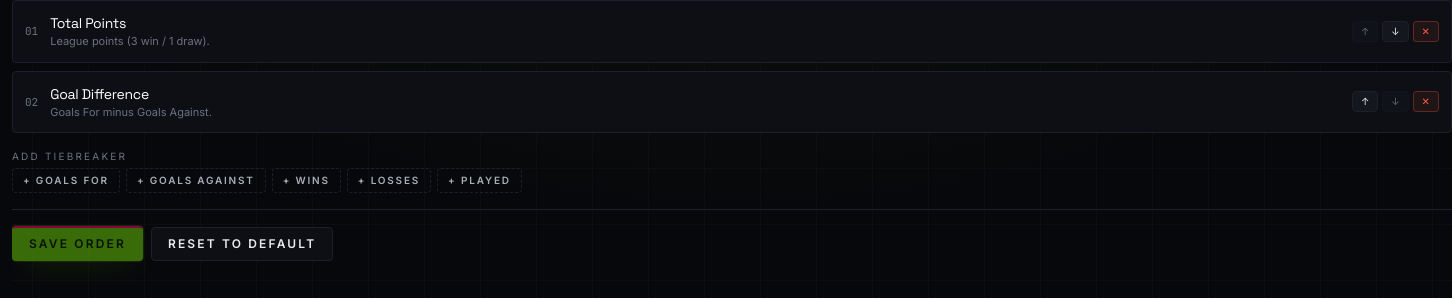
TiebreakerDragRank › surfaces save errors inline
Click the button named "Move Total Points down" at (1395,31), box [1382,21,1409,42]
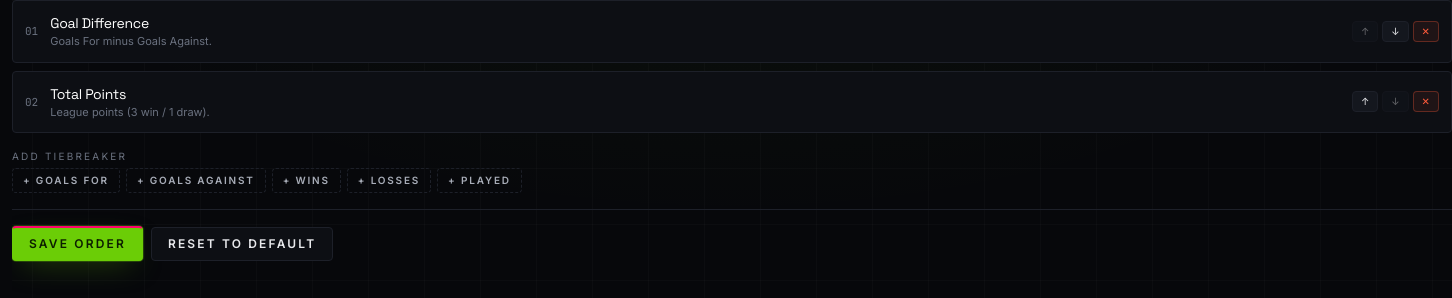
Click the button with test id "tiebreaker-save" at (78,244), box [12,226,143,261]
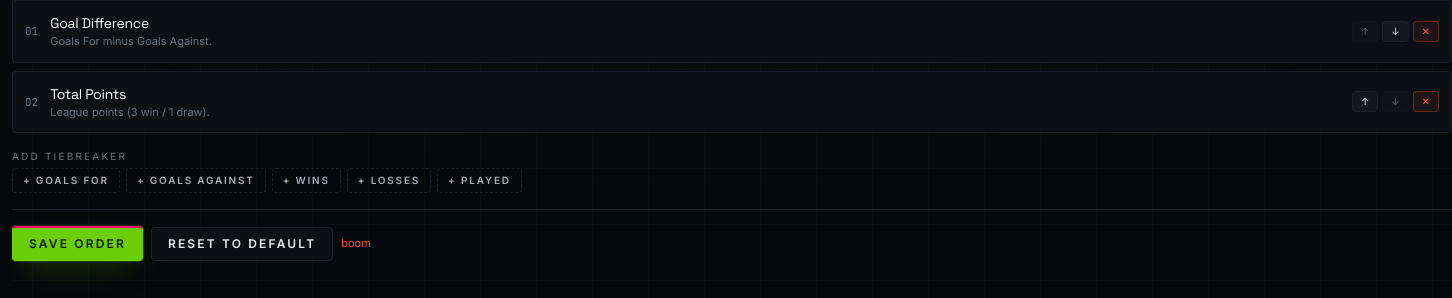
Now the text "boom" is shown, box [341,235,371,252]
